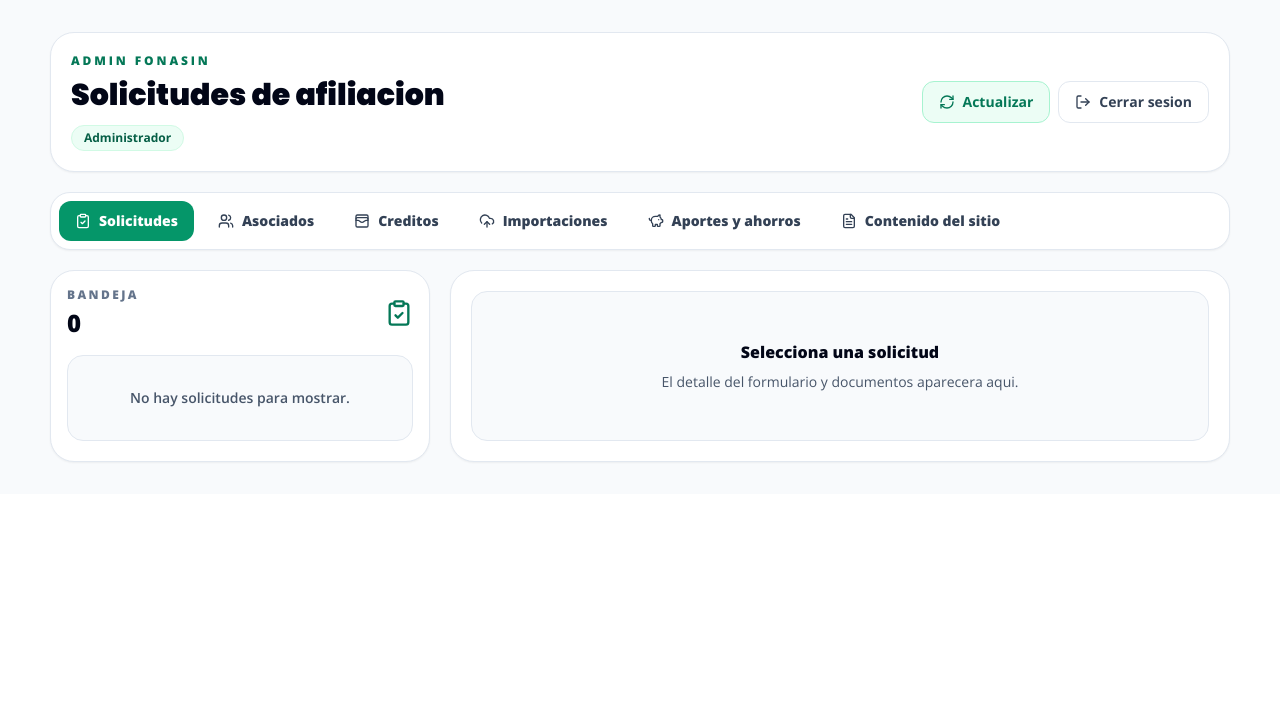
Test: AppRoutes › abre la administración limitada de contenido para admin
Click the button "Contenido del sitio". click: {"x": 920, "y": 221}
box: [825,201,1016,241]
(page scrolled)
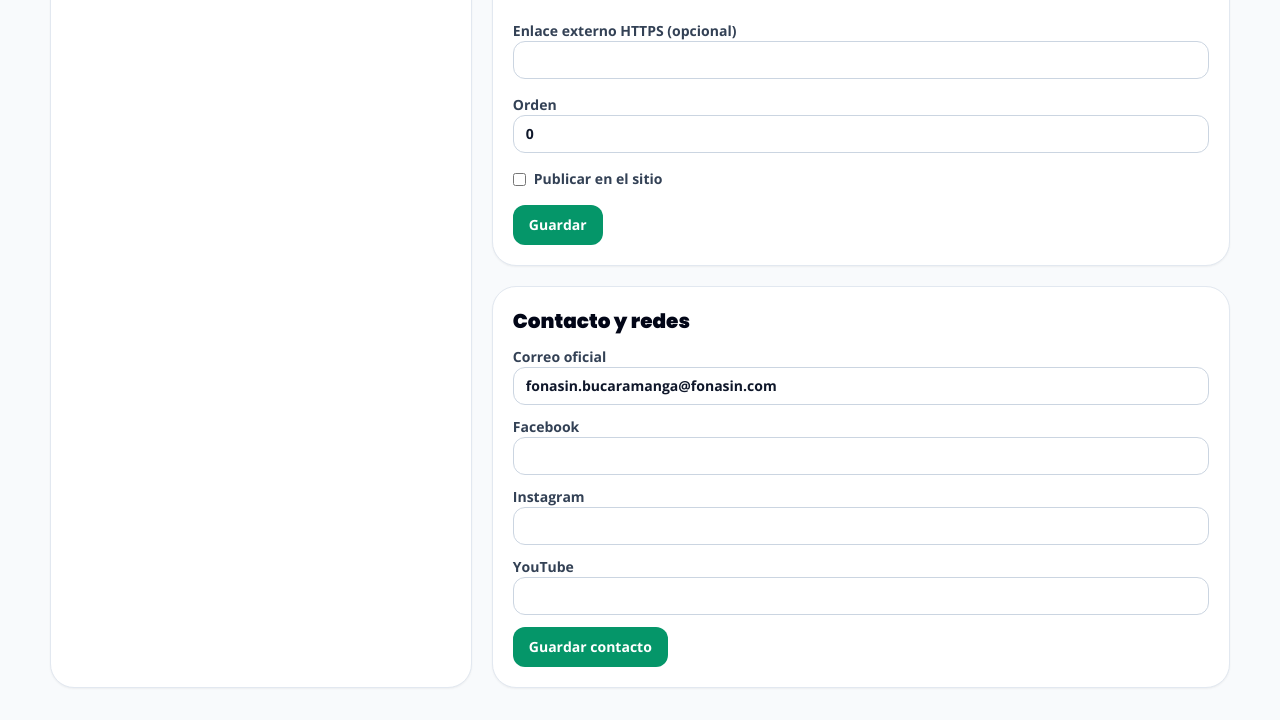
Check: the field showing "fonasin.bucaramanga@fonasin.com" is shown, box [513,367,1209,405]
